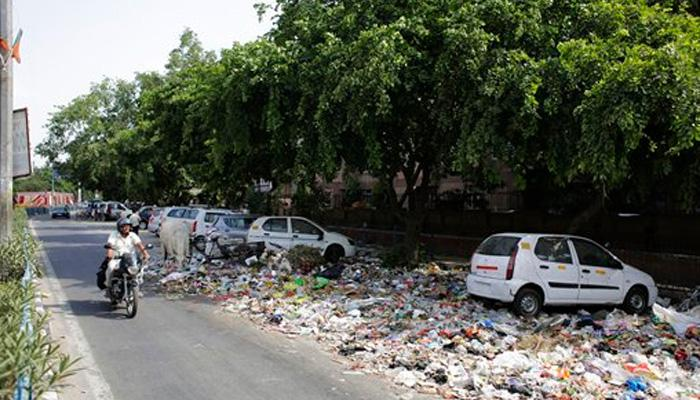Garbage: (477, 316, 700, 400), (367, 266, 462, 371), (208, 259, 349, 314), (347, 325, 490, 365)
